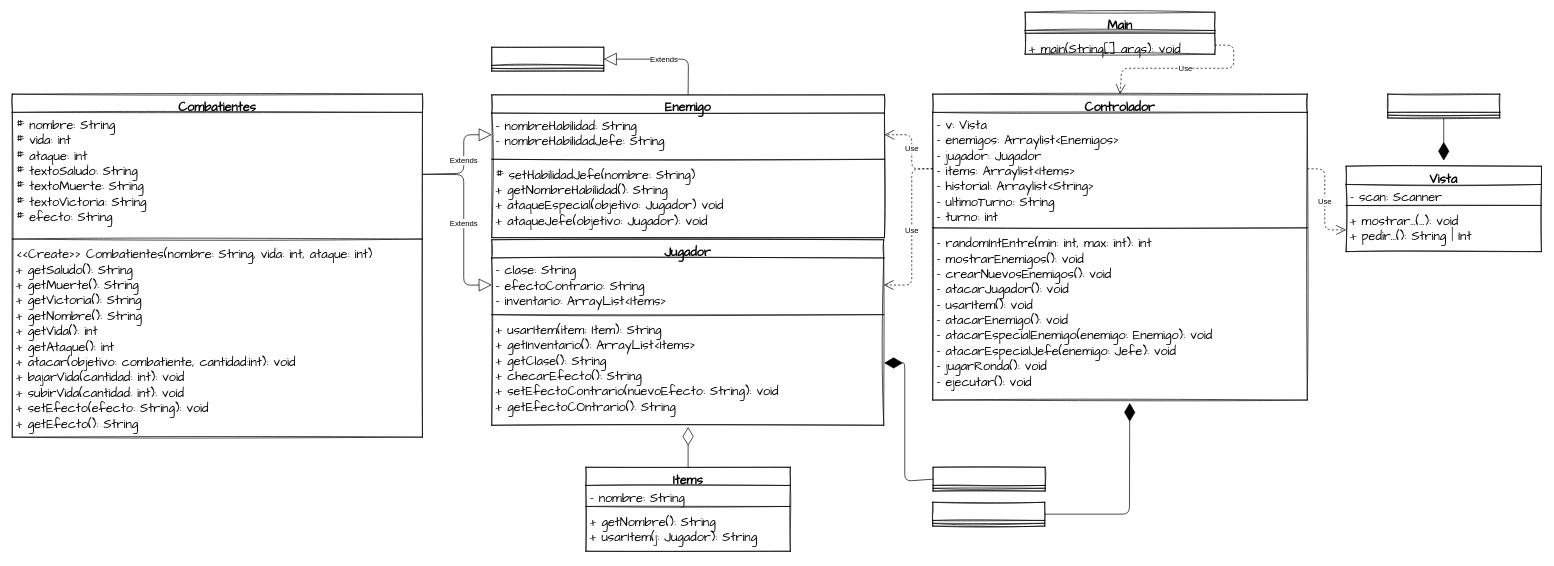
The diagram is 1554 pixels wide and 566 high, and some of its shapes have lost their labels. The centre of each missing label's shape, as x and y in pixels:
Arraylist: the point at 988,479
Jefe: the point at 547,59
Random: the point at 988,514
Scanner: the point at 1443,105
